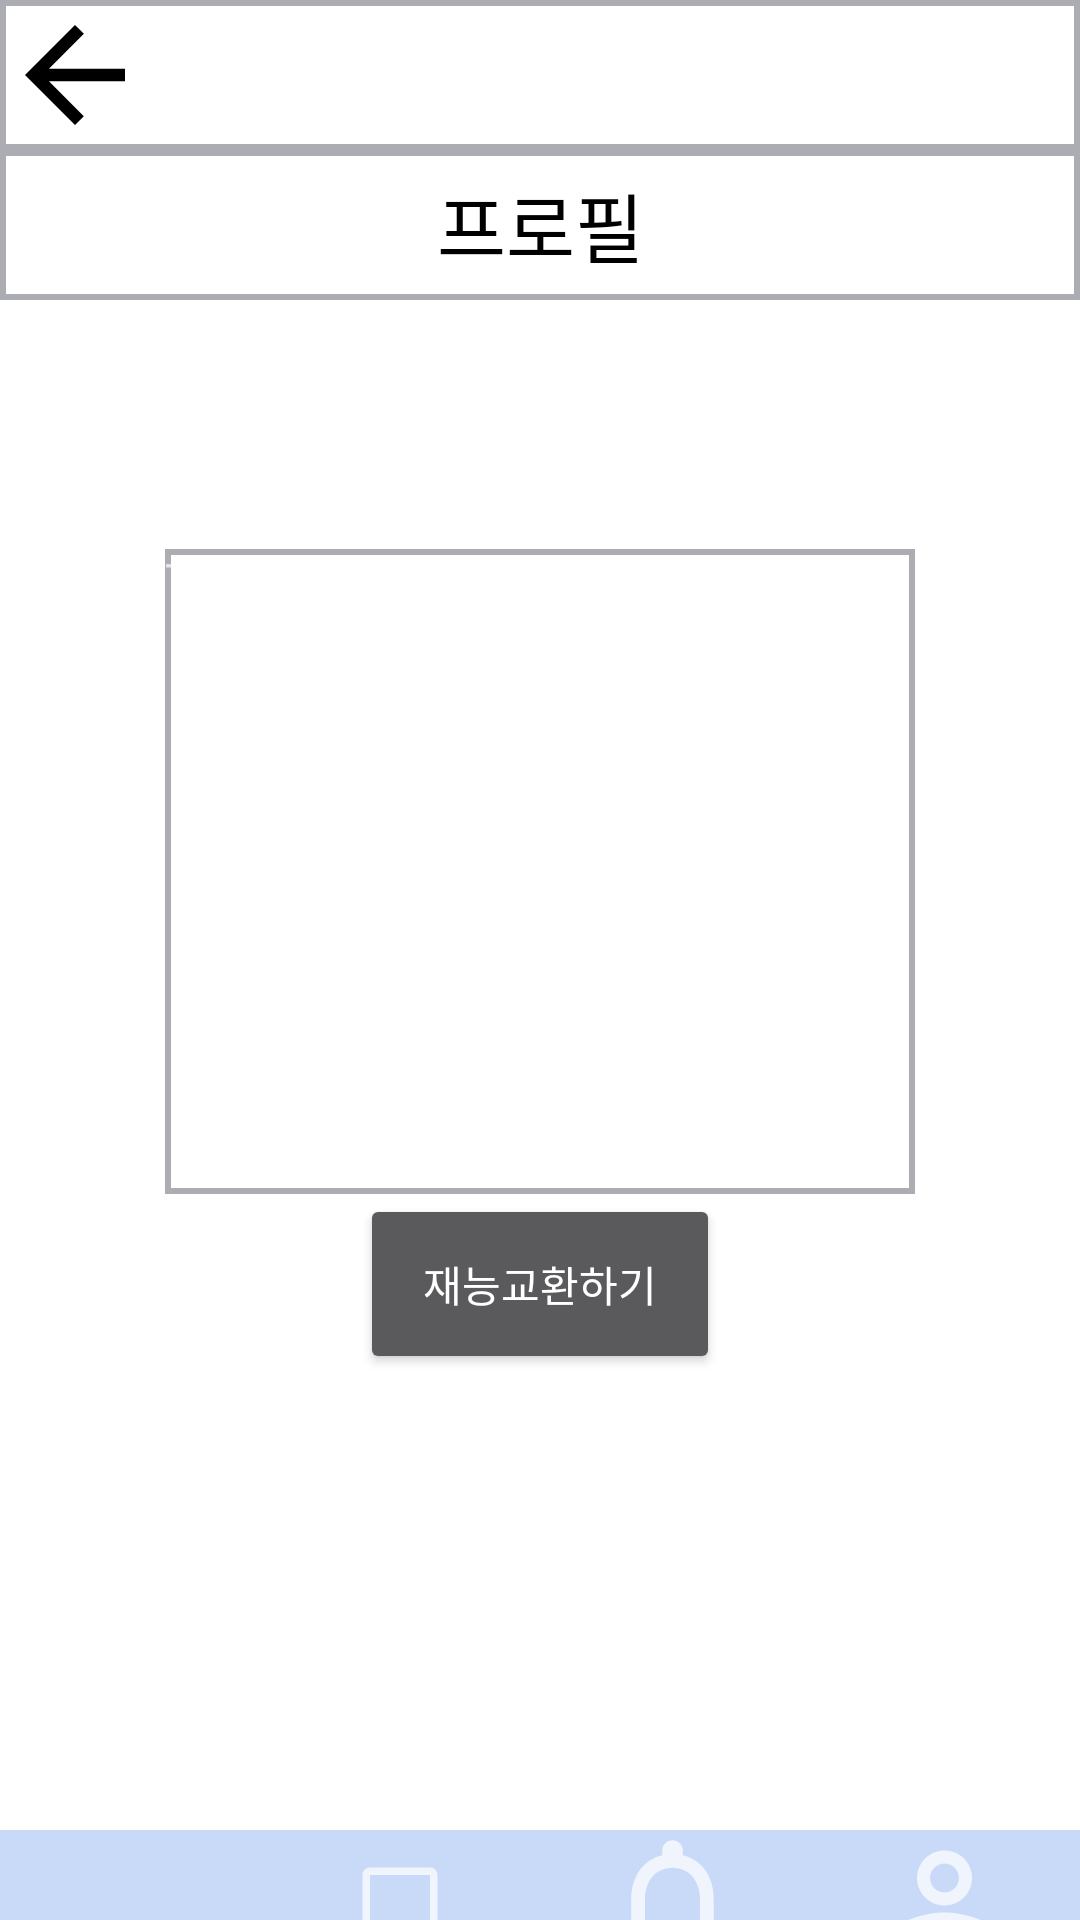

Icon click points for this 1080w x 1920h phone screenshot, format [x,y]:
arrow back: [75,75]
